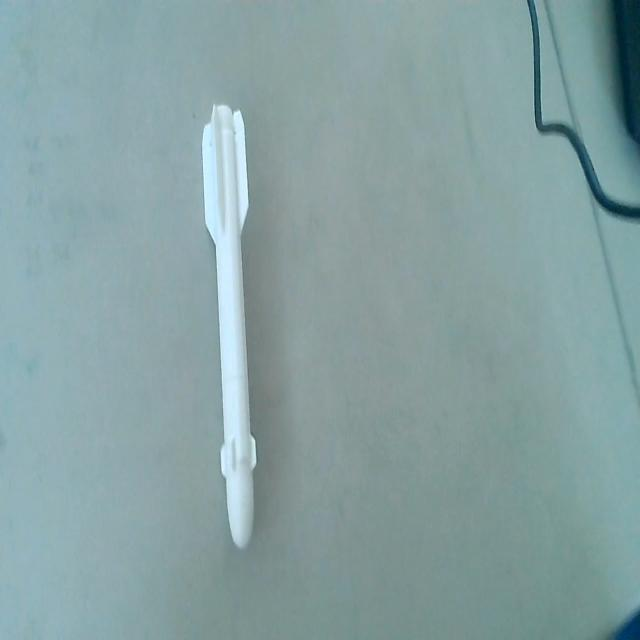Rocket: (200, 104, 260, 554)
